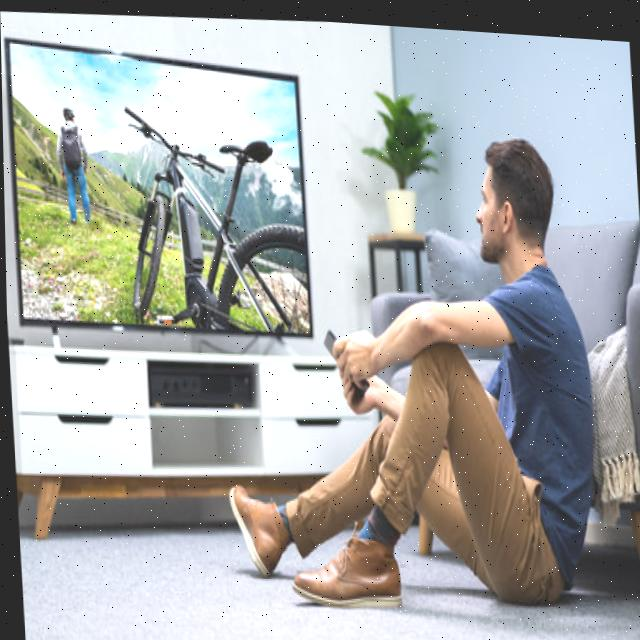tv-person: (0, 5, 607, 623)
